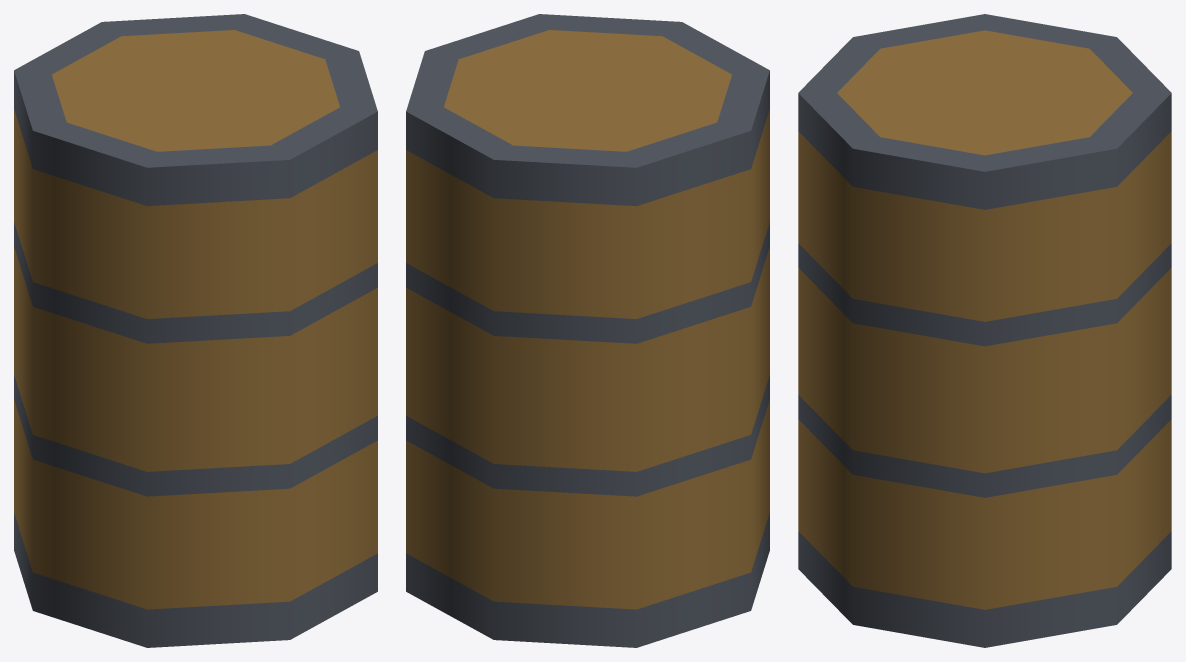
File: barrel1.FBX
3 renders of one model, left to right at view 1: azimuth 30°, elevation 25°; view 2: azimuth 150°, elevation 25°; view 3: azimuth 270°, elevation 25°, orthographic.
Parts seen in each view (by area): view 1: barrel1; view 2: barrel1; view 3: barrel1.
Part boxes in pixels (box(x1,y1,x2,y2)): barrel1: box(14, 14, 377, 647); barrel1: box(406, 14, 769, 647); barrel1: box(798, 14, 1171, 647).
Bounding box in the file's own units: 2.09 × 2.94 × 2.09.
